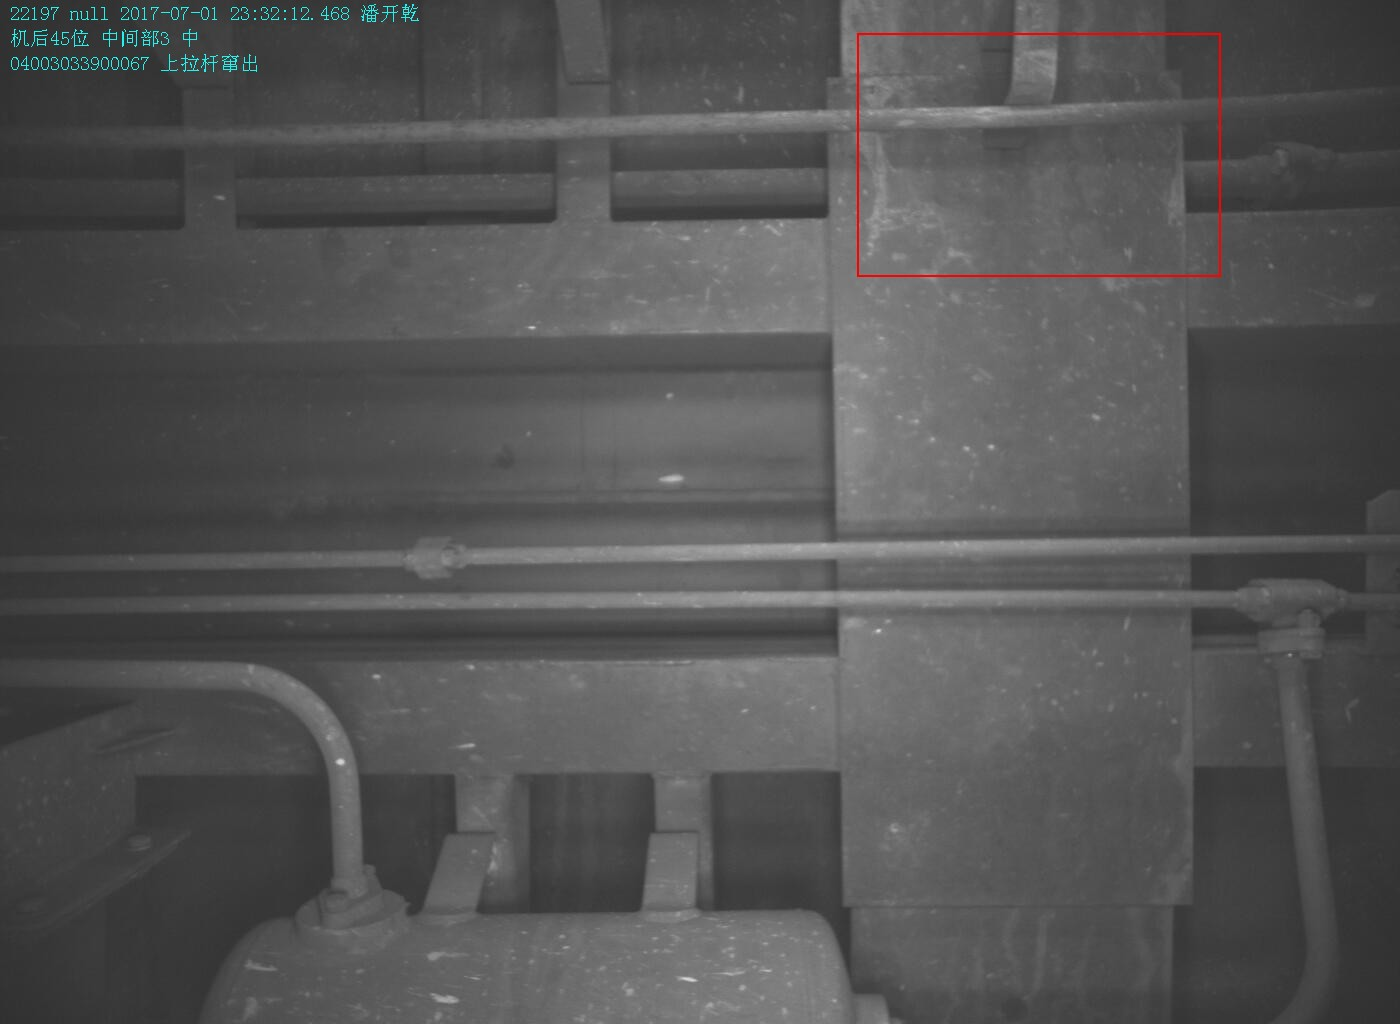upper lever: (982, 1, 1060, 146)
